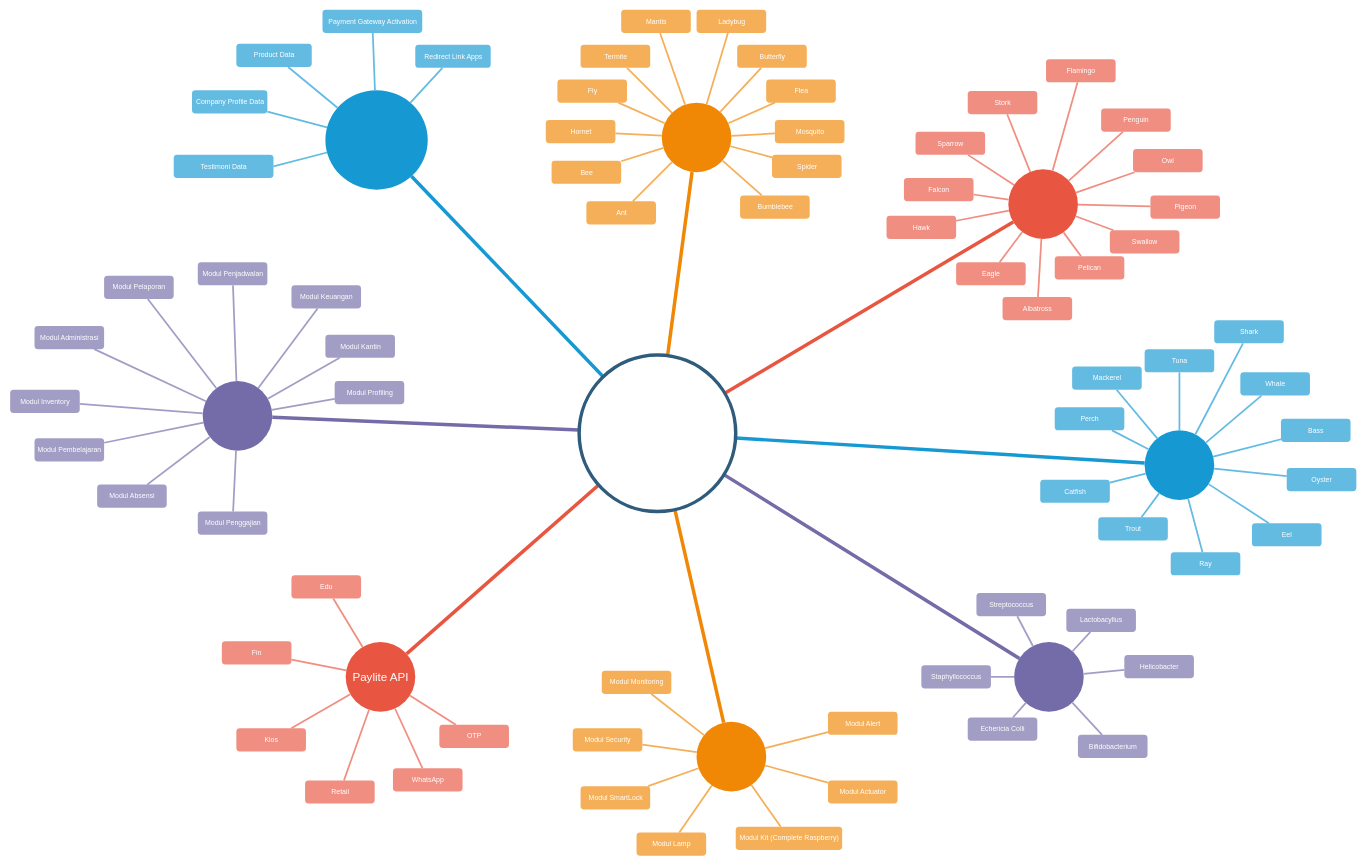
The diagram is 1366 pixels wide and 866 high, and some of its shapes have lost their labels. Here are the shapes that lost their labels. From the top down, the centre of each, then its label:
point (376, 139): Paylite Website
point (696, 137): Paylite Retail
point (1043, 204): Paylite Fin
point (237, 415): Paylite Edu
point (657, 433): Paylite Core API
point (1179, 465): Paylite Kios
point (1048, 676): Paylite Machine
point (731, 756): Paylite Home
